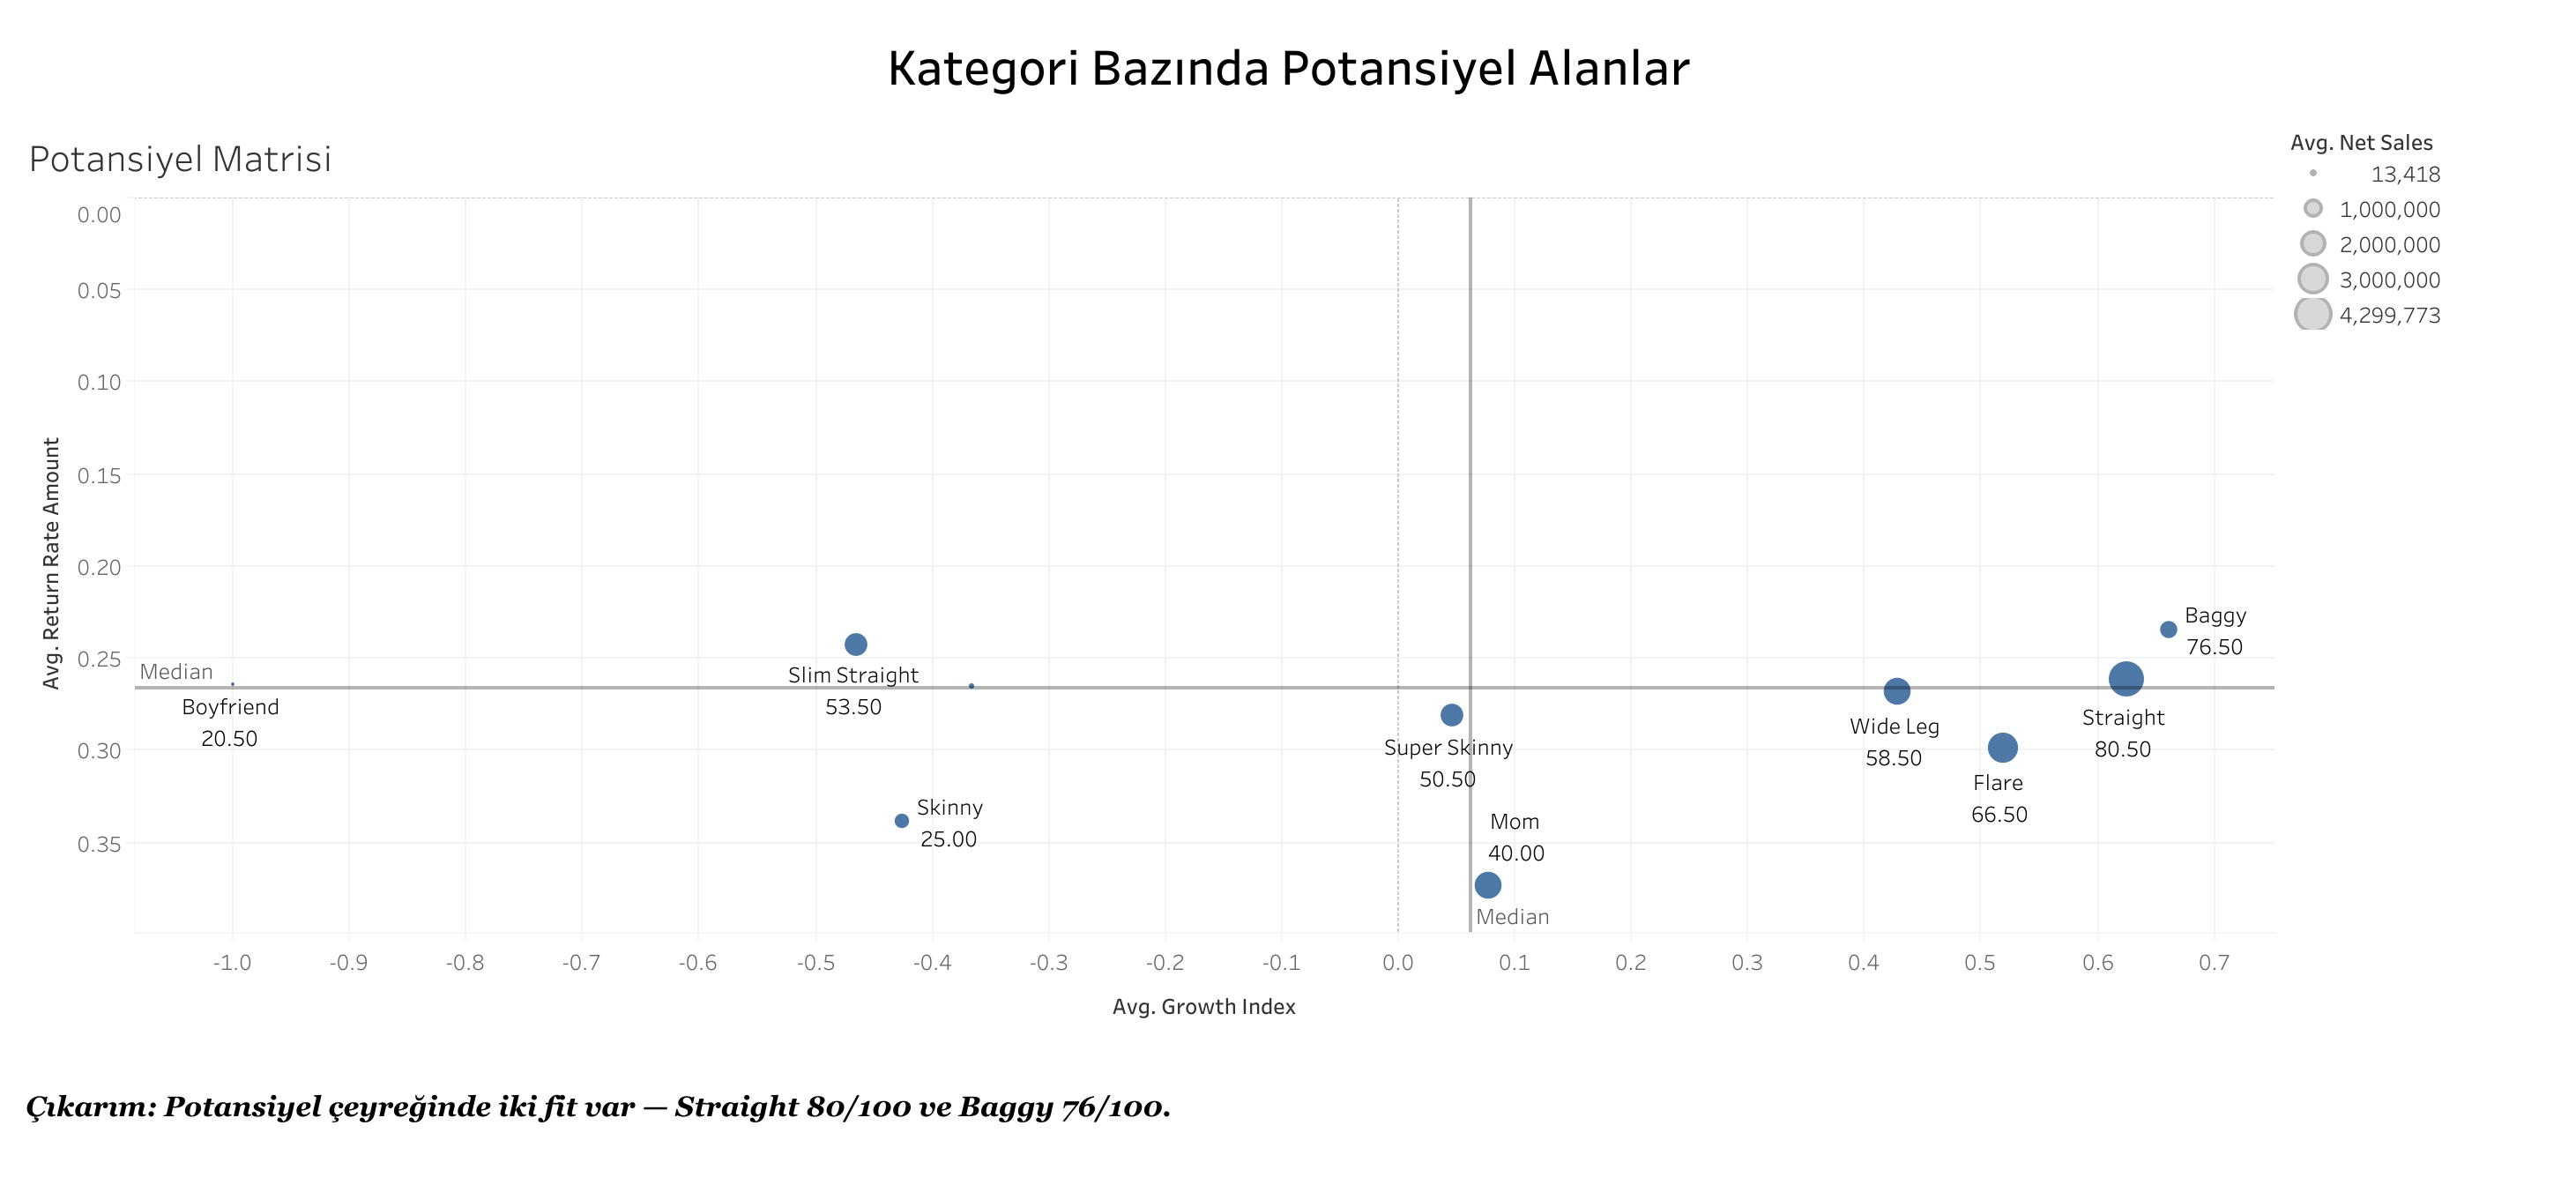

This screenshot's page, from the dashboard's own definition file:
{"tool":"tableau","page":{"name":"Dashboard 3","canvas":[1000,1000],"units":"permille","ordinal":2},"visuals":[{"type":"text","box":[6.2,10.5,987.7,85.7]},{"type":"worksheet","title":"Potansiyel Matrisi","mark":"Circle","rows":["return_rate_amount"],"cols":["growth_index"],"box":[6.2,96.2,864.3,781.8]},{"type":"legend","title":"Potansiyel Matrisi","param":"[federated.02fdtsy0xdnua714np8nu1mzq0v0].[avg:net_sales:qk]","box":[870.5,96.2,123.4,198.2]},{"type":"text","box":[6.2,878,987.7,111.5]}]}

Visuals, with their boxes on the dashboard's canvas, which has no fixed pixel size, in thousandths of its width and height (x1, y1, x2, y2). These are canvas units, not pixel positions in the 2576x1185 screenshot, which may show the page scaled, cropped or inside an application window:
text: crop(6, 10, 994, 96)
"Potansiyel Matrisi" worksheet (Circle marks): crop(6, 96, 870, 878)
"Potansiyel Matrisi" legend: crop(870, 96, 994, 294)
text: crop(6, 878, 994, 990)
